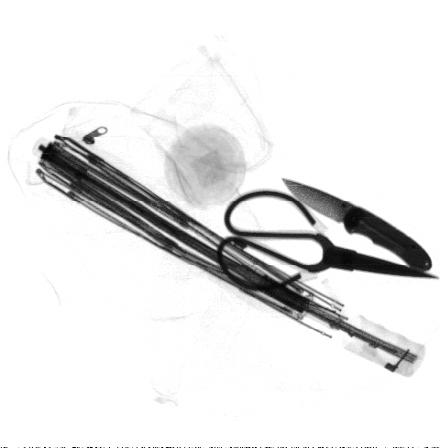Knife: (282, 177, 433, 272)
Scissors: (217, 189, 438, 292)
